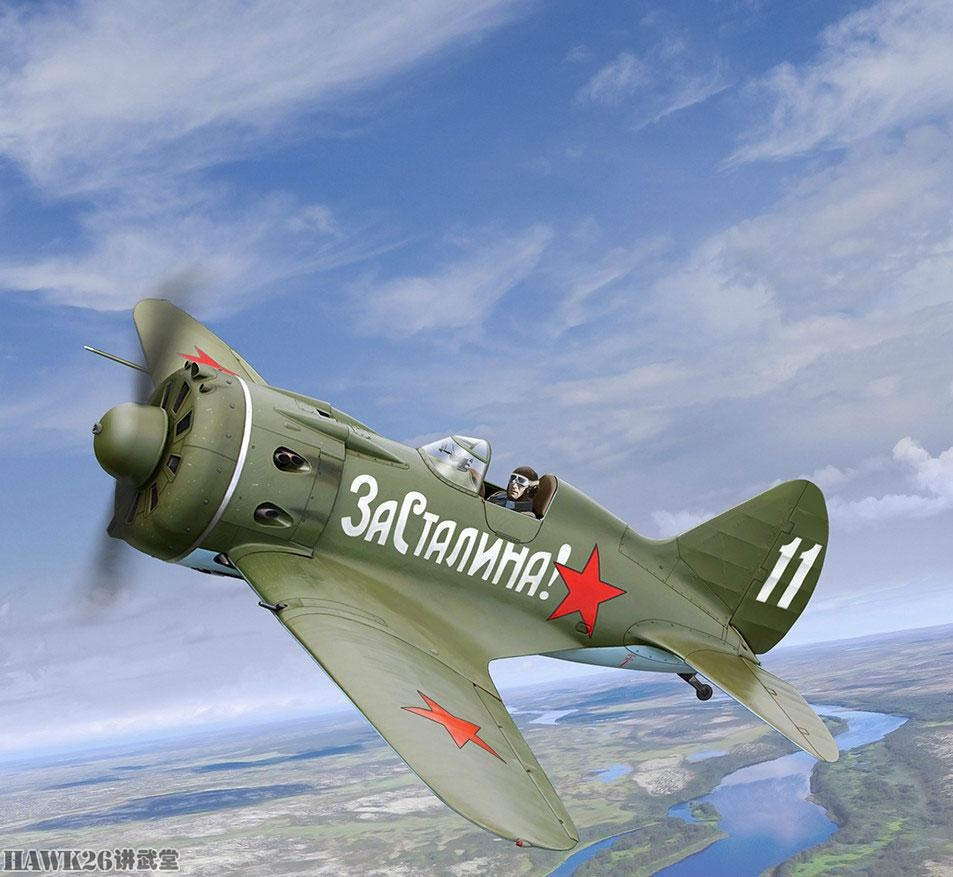airplane: (27, 218, 839, 846)
